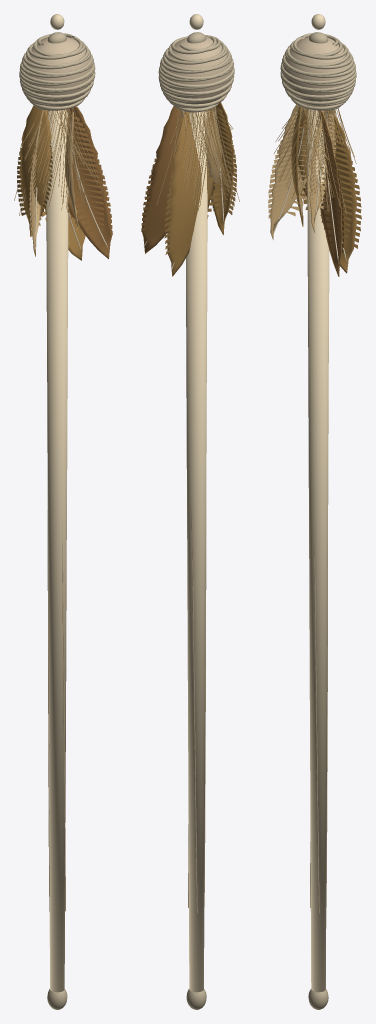
The model's file is cat_wand_v2.glb.
3 renders of one model, left to right at view 1: azimuth 30°, elevation 25°; view 2: azimuth 210°, elevation 25°; view 3: azimuth 330°, elevation 25°, orthographic.
Visible parts, largest first — view 1: Bamboo_shaft, Lure_feather_honey, Lure_feather_ochre, Lure_cotton_rope, Lure_feather_cream, Woven_core, Rod_warm_pale_bamboo, Lure_quill, Tip_eyelet; view 2: Bamboo_shaft, Lure_feather_honey, Lure_cotton_rope, Lure_feather_ochre, Lure_feather_cream, Woven_core, Rod_warm_pale_bamboo, Tip_eyelet; view 3: Bamboo_shaft, Lure_feather_cream, Lure_feather_honey, Lure_cotton_rope, Lure_feather_ochre, Woven_core, Rod_warm_pale_bamboo, Lure_quill, Tip_eyelet.
Boxes of the visible parts, x1,y1,x2,y2 form: Bamboo_shaft: [46, 109, 68, 992]; Lure_feather_honey: [17, 105, 96, 260]; Lure_feather_ochre: [67, 106, 112, 258]; Lure_cotton_rope: [19, 32, 95, 110]; Lure_feather_cream: [14, 107, 102, 256]; Woven_core: [22, 37, 92, 106]; Rod_warm_pale_bamboo: [47, 510, 65, 911]; Lure_quill: [29, 109, 109, 250]; Tip_eyelet: [47, 989, 67, 1009]; Bamboo_shaft: [186, 110, 207, 992]; Lure_feather_honey: [164, 102, 236, 276]; Lure_cotton_rope: [158, 32, 234, 112]; Lure_feather_ochre: [141, 106, 182, 253]; Lure_feather_cream: [156, 107, 239, 210]; Woven_core: [161, 37, 232, 108]; Rod_warm_pale_bamboo: [188, 502, 206, 913]; Tip_eyelet: [186, 989, 206, 1009]; Bamboo_shaft: [307, 109, 329, 992]; Lure_feather_cream: [268, 104, 356, 239]; Lure_feather_honey: [278, 106, 361, 273]; Lure_cotton_rope: [280, 32, 356, 110]; Lure_feather_ochre: [318, 110, 344, 276]; Woven_core: [282, 37, 352, 106]; Rod_warm_pale_bamboo: [310, 523, 327, 913]; Lure_quill: [273, 110, 348, 268]; Tip_eyelet: [308, 989, 328, 1009].
Bounding box in the file's own units: 0.0895 × 1.08 × 0.0674.
